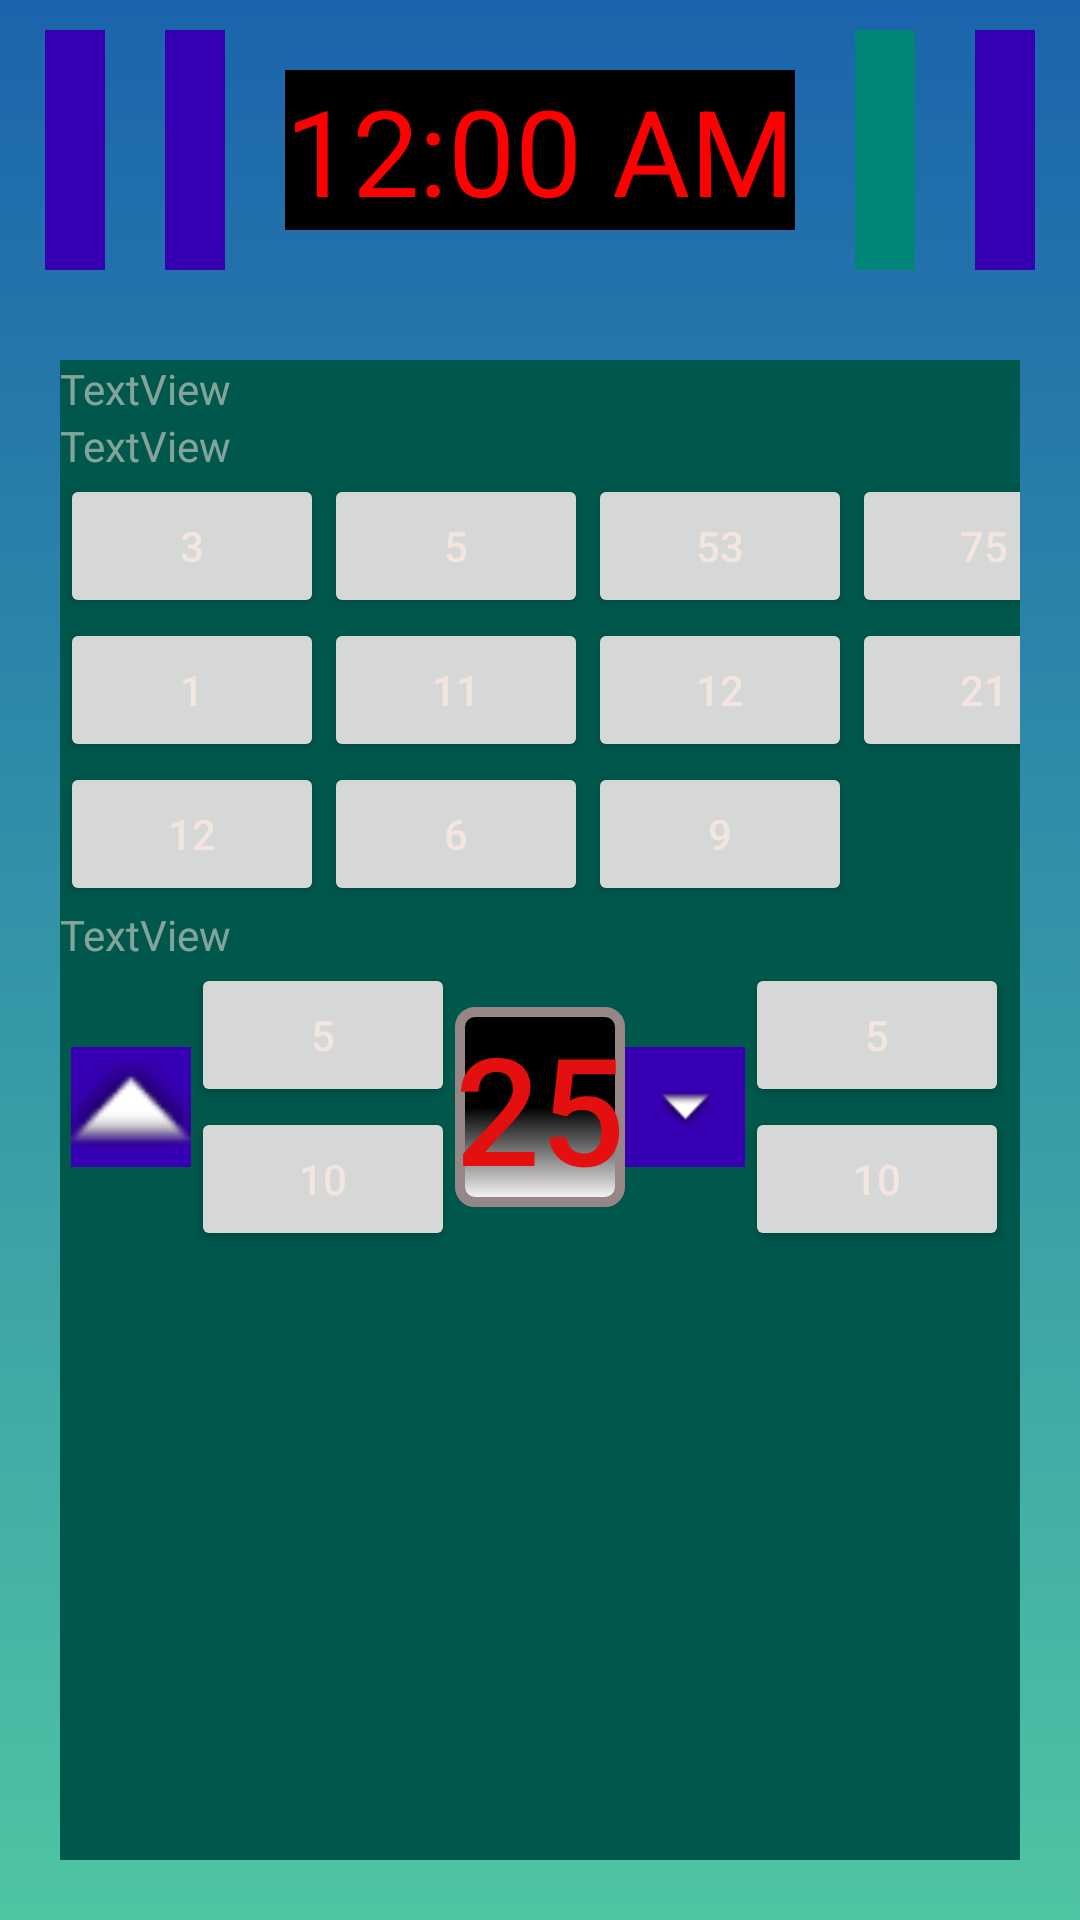

Screen size 1080px×1920px. Icon name, then its center in pixels as (x=x, y=y):
arrow up float: (x=131, y=1107)
